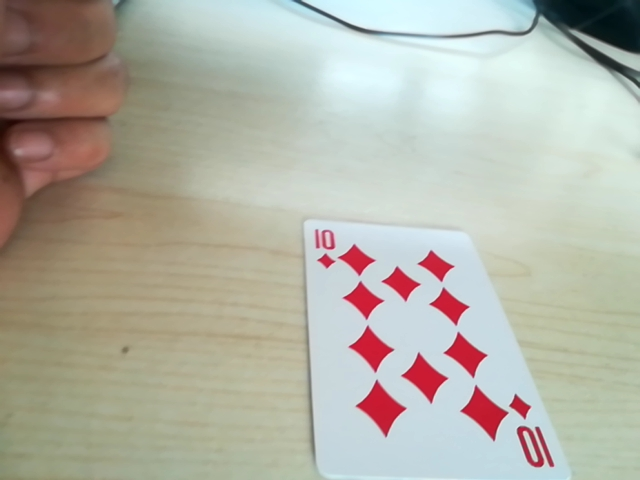fk 10: (511, 396, 551, 478), (310, 220, 352, 275)
